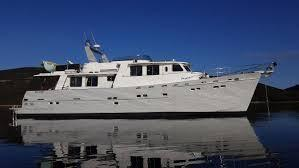Ship: (16, 40, 278, 119)
